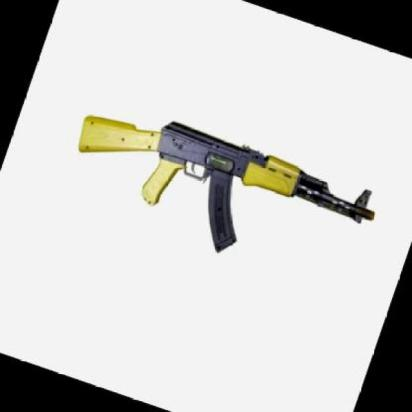Gun: (51, 72, 396, 307)
